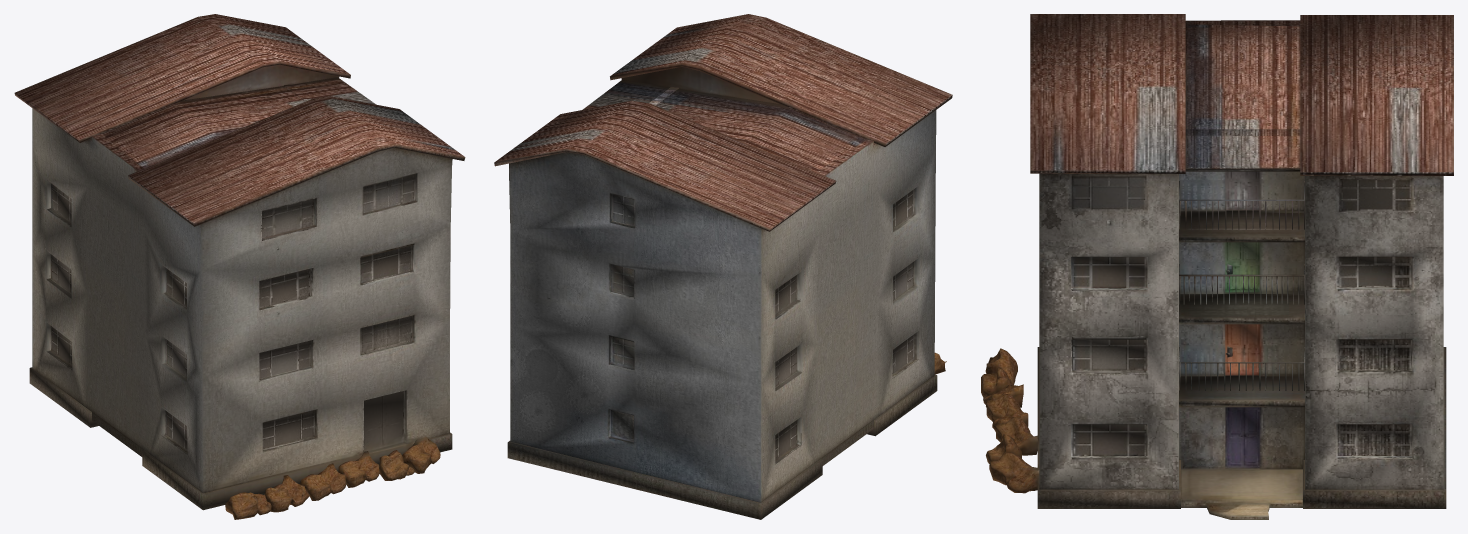
The model's file is face-me-i-face-you+house+3d+model(1).glb.
3 renders of one model, left to right at view 1: azimuth 30°, elevation 25°; view 2: azimuth 150°, elevation 25°; view 3: azimuth 270°, elevation 25°, orthographic. The views are drawn at different scales.
Parts seen in each view (by area): view 1: tripo_node_93f5143e-7a43-4566-8381-6237843c2906; view 2: tripo_node_93f5143e-7a43-4566-8381-6237843c2906; view 3: tripo_node_93f5143e-7a43-4566-8381-6237843c2906.
Boxes of the visible parts, x1,y1,x2,y2 form: tripo_node_93f5143e-7a43-4566-8381-6237843c2906: (14, 14, 465, 519); tripo_node_93f5143e-7a43-4566-8381-6237843c2906: (494, 14, 952, 519); tripo_node_93f5143e-7a43-4566-8381-6237843c2906: (981, 14, 1453, 519).
Size of the model in its own units: 0.8066 by 0.8887 by 0.998.
Materials: 1 (1 with a texture image).
